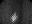person: (11, 12, 18, 22)
